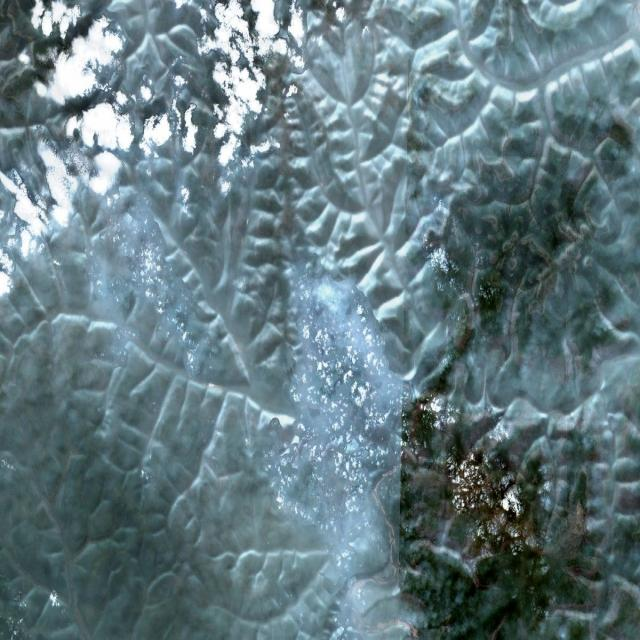fire: (296, 108, 417, 510)
